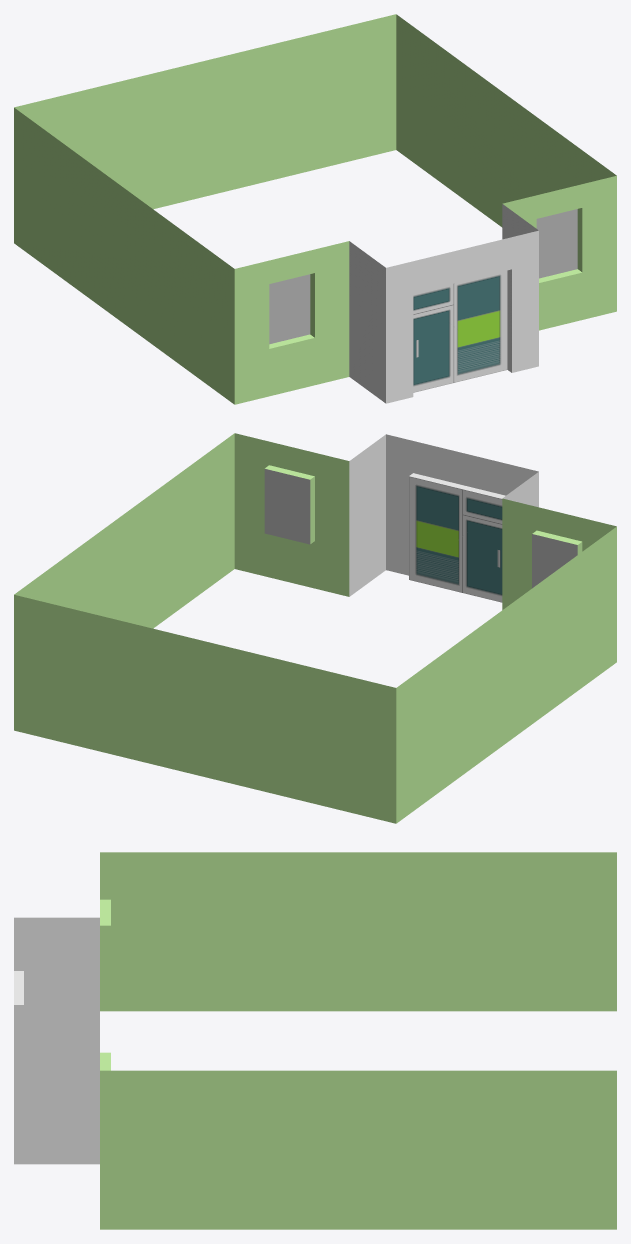
The model's file is Town_Bld-Med_BaseE.FBX.
The picture shows the model from 3 angles, top to bottom: view 1: azimuth 30°, elevation 25°; view 2: azimuth 150°, elevation 25°; view 3: azimuth 270°, elevation 25°; orthographic projection. The views are drawn at different scales.
Visible parts, largest first — view 1: Town_Bld-Med_BaseE; view 2: Town_Bld-Med_BaseE; view 3: Town_Bld-Med_BaseE.
Boxes of the visible parts, x1,y1,x2,y2 form: Town_Bld-Med_BaseE: (14,14,616,404); Town_Bld-Med_BaseE: (14,433,616,823); Town_Bld-Med_BaseE: (14,852,616,1229).
Bounding box in the file's own units: 600 × 204 × 700.
